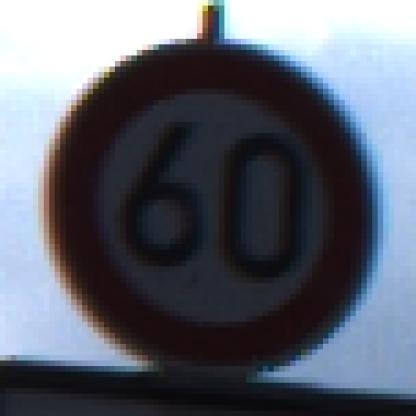Speed Limit 60: (50, 43, 367, 368)
